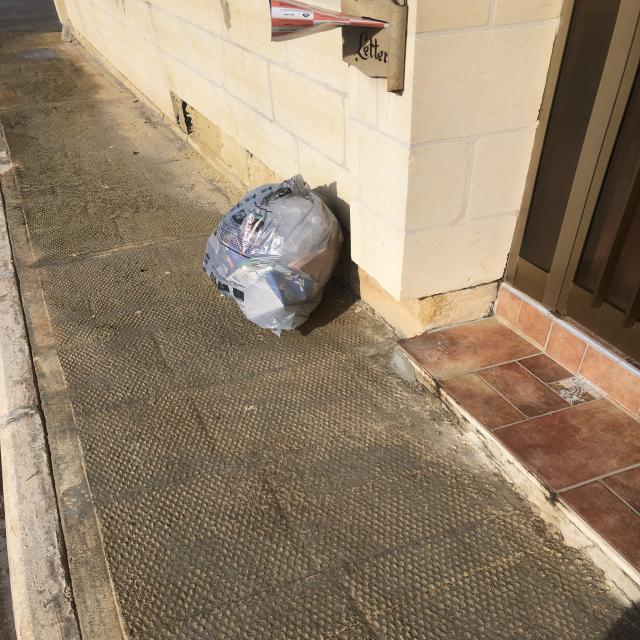Recycled Waste -Grey or Green Bag-: (202, 173, 348, 344)
